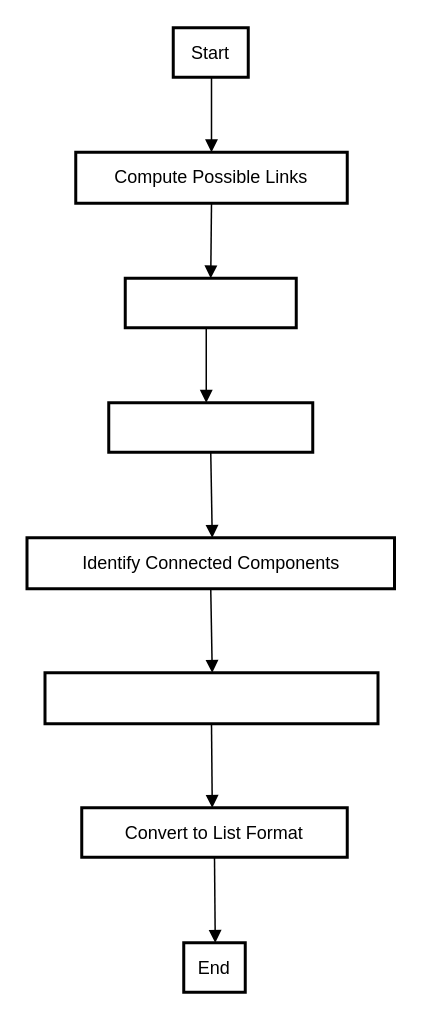
Some shapes in this 422 by 1019 pixel diagram are drawn without their labels. The centre of each missing label's shape, as x and y in pixels:
"Add Virtual Node" belongs at point 210,426.
"Apply Steiner Tree Algorithm" belongs at point 211,697.
"Set Link Costs" belongs at point 210,302.
